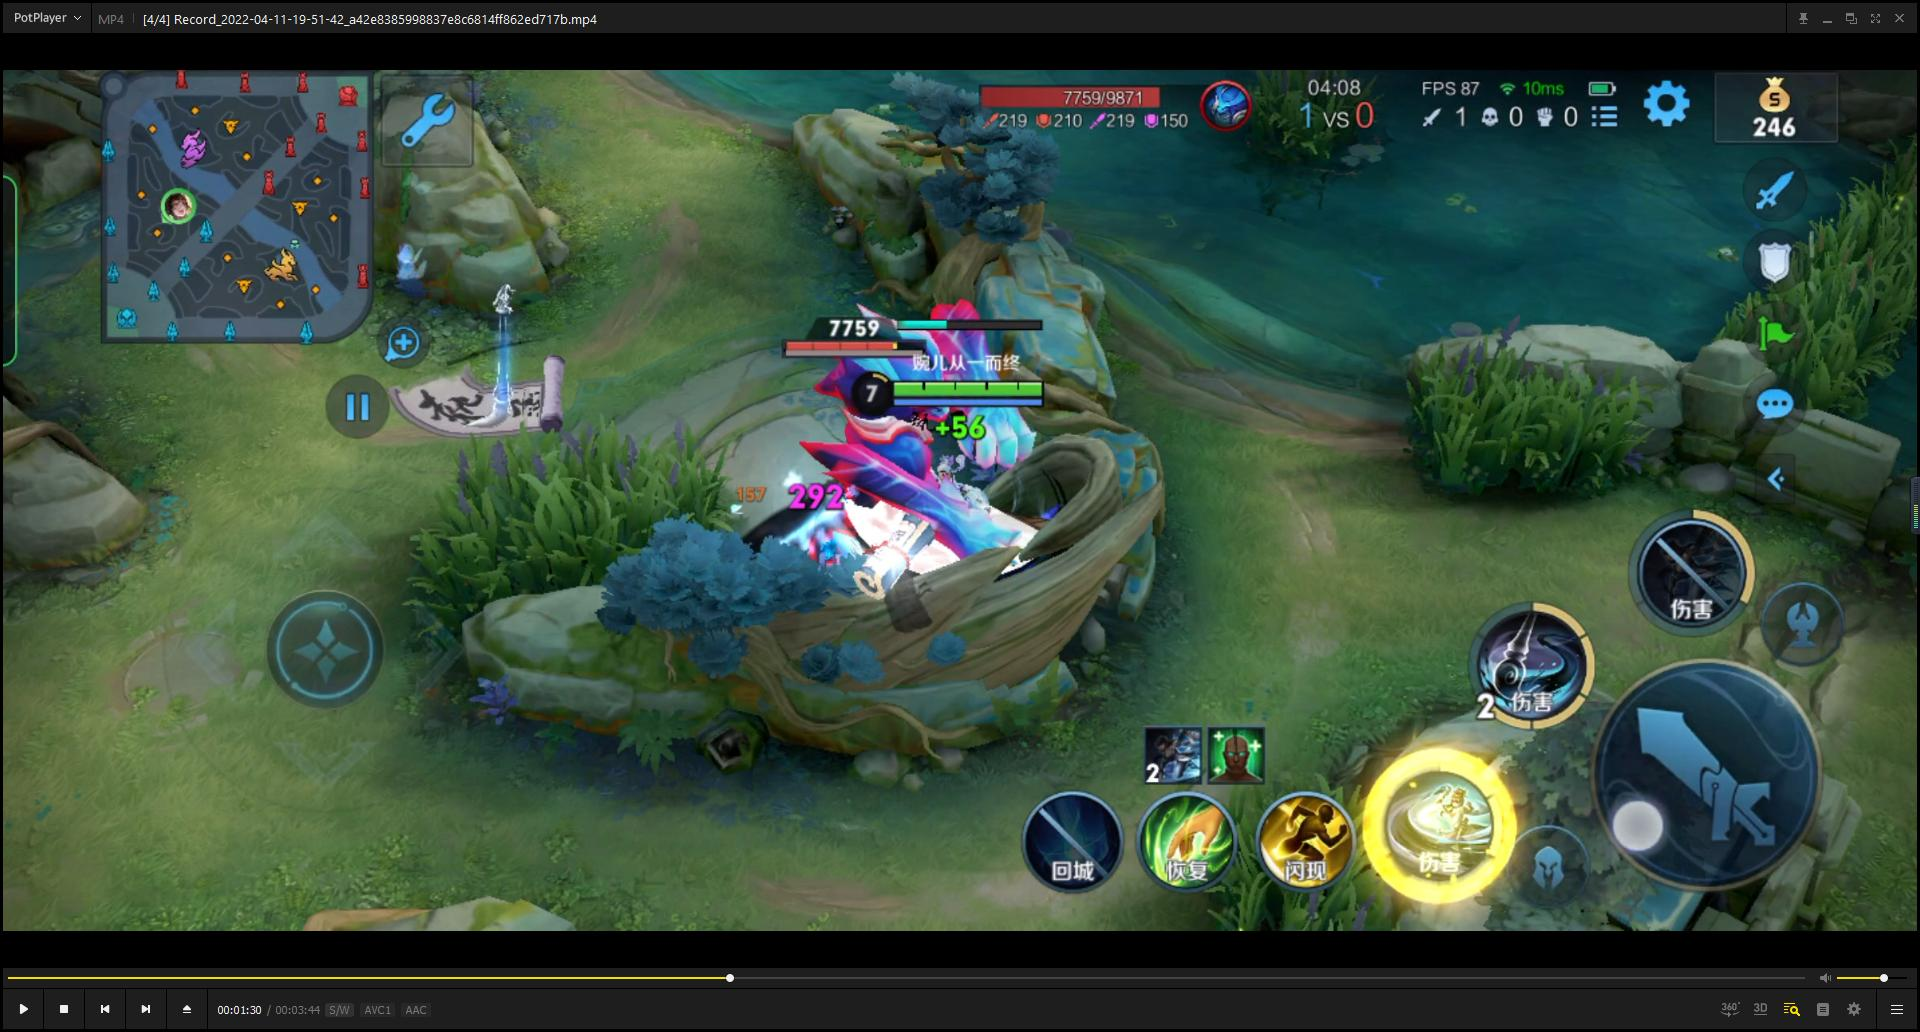Buff: (673, 277, 1050, 602)
Hero: (906, 430, 1050, 559)
